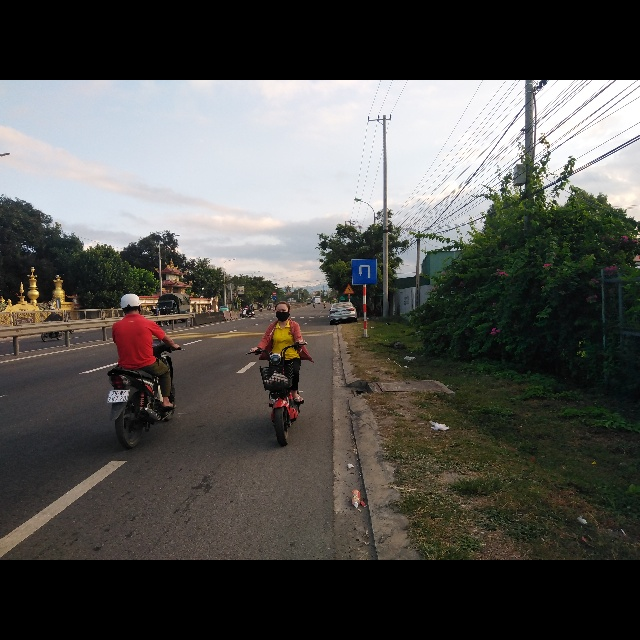Khu vực quay đầu xe: (351, 258, 378, 286)
